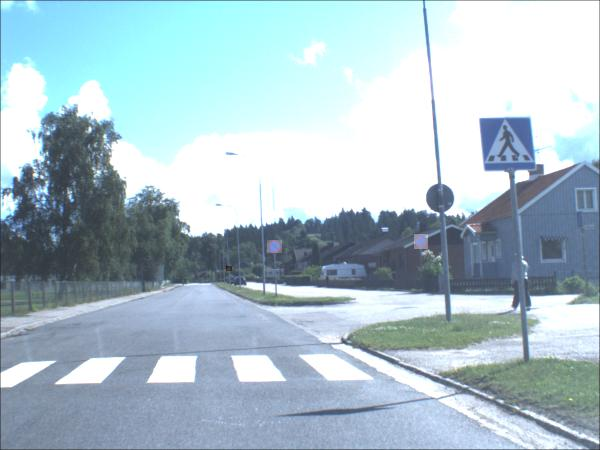NO_PARKING: (415, 235, 430, 251), (268, 241, 284, 255)
PEDESTRIAN_CROSSING: (481, 118, 541, 174), (218, 271, 222, 274)
WARNING: (227, 267, 234, 273)
